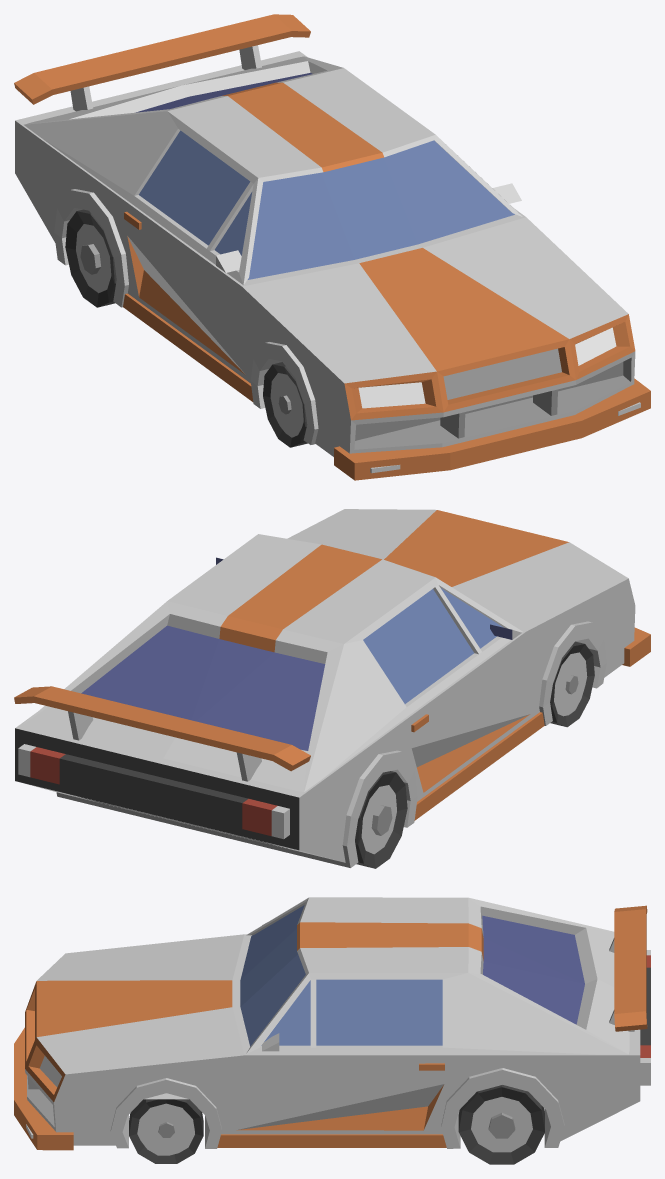
The model's file is transport_sport_004.glb.
3 views of the same model, one above another, from view 1: azimuth 30°, elevation 25°; view 2: azimuth 150°, elevation 25°; view 3: azimuth 270°, elevation 25° (orthographic). The views are drawn at different scales.
Parts seen in each view (by area): view 1: transport_sport_004; view 2: transport_sport_004; view 3: transport_sport_004.
Part boxes in pixels (<box>): transport_sport_004: <box>14,14,650,480</box>; transport_sport_004: <box>14,509,650,868</box>; transport_sport_004: <box>14,897,650,1164</box>.
Bounding box in the file's own units: 1.81 × 1.11 × 3.84.
1 material, 1 textured.
